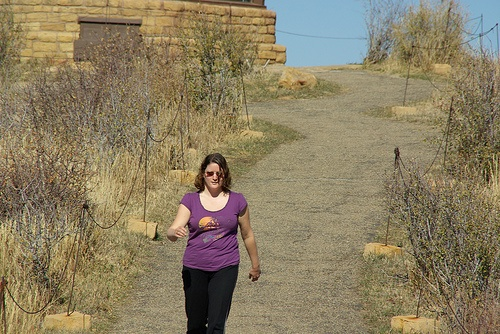head: (202, 154, 229, 190)
person: (167, 152, 258, 332)
